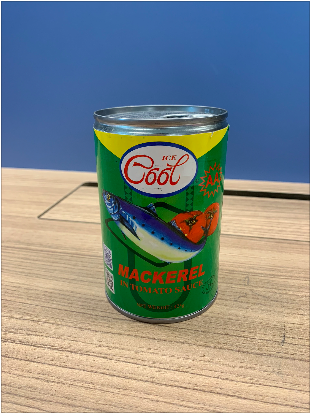Sardines_400-499g: (102, 128, 219, 302)
